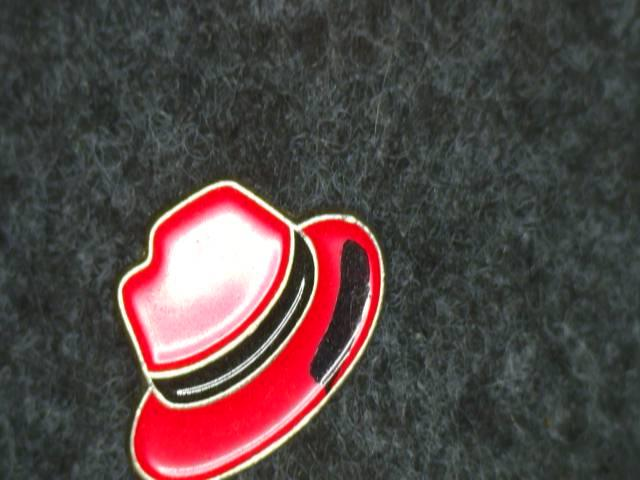Red-Hat: (75, 167, 411, 480)
Scratch: (303, 221, 394, 416)
